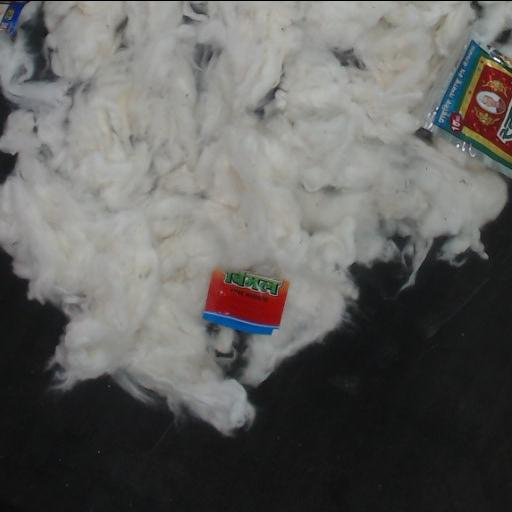conveyor belt: (0, 180, 511, 512), (23, 10, 52, 77), (0, 95, 17, 131), (0, 153, 15, 181)
cotton: (0, 1, 511, 434)
packet: (417, 37, 511, 176), (202, 270, 288, 334), (0, 1, 28, 32)
